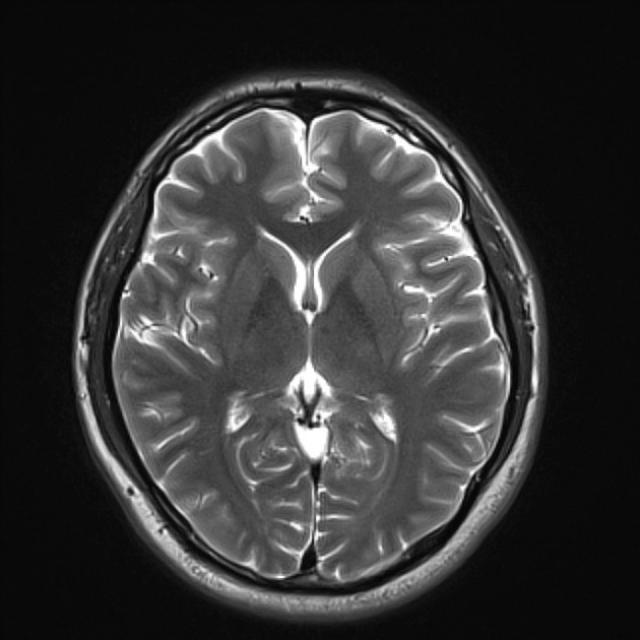No_Tumor: (74, 73, 544, 614)
